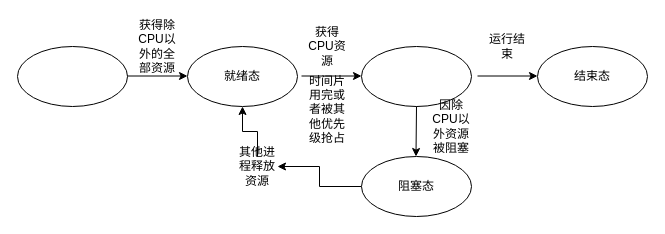
The diagram is 665 pixels wide and 234 high, and some of its shapes have lost their labels. The centre of each missing label's shape, as x and y in pixels:
"创建态" belongs at pixel 72 76.
"运行态" belongs at pixel 416 76.
